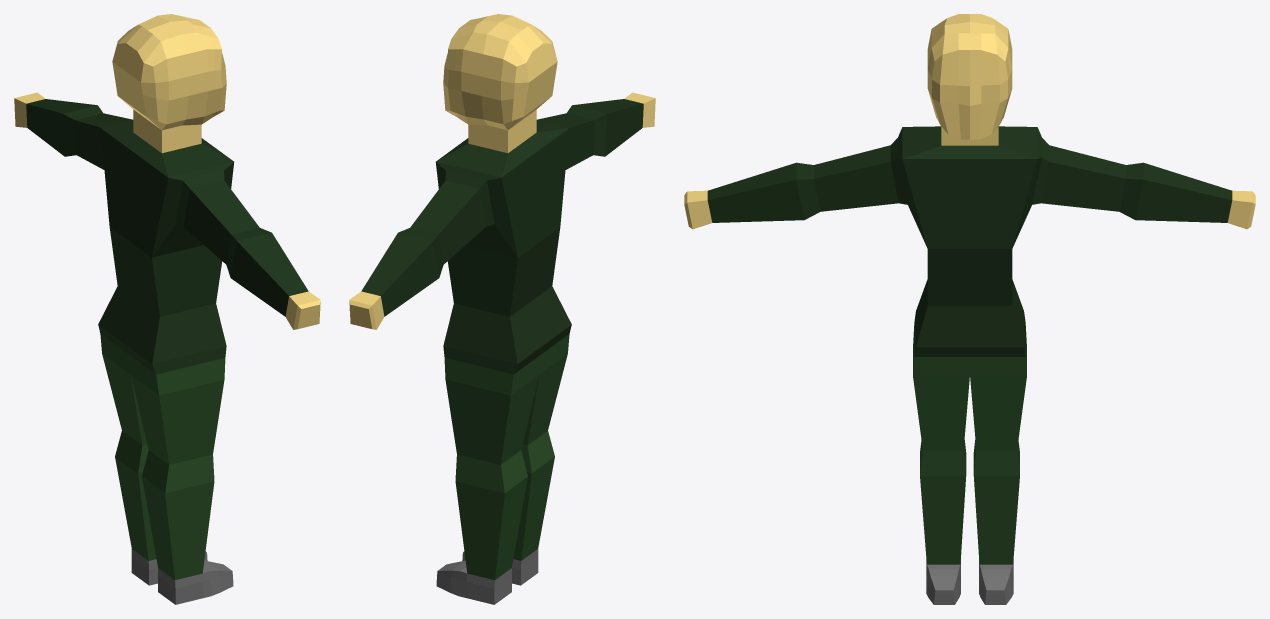
The model's file is chara.fbx.
The picture shows the model from 3 angles, left to right: view 1: azimuth 30°, elevation 25°; view 2: azimuth 150°, elevation 25°; view 3: azimuth 270°, elevation 25°; orthographic projection.
Visible parts, largest first — view 1: Cube; view 2: Cube; view 3: Cube.
Part boxes in pixels (x1,y1,x2,y2): Cube: [14, 14, 320, 604]; Cube: [349, 14, 655, 604]; Cube: [684, 14, 1255, 604].
Size of the model in its own units: 251 by 1466 by 1351.
